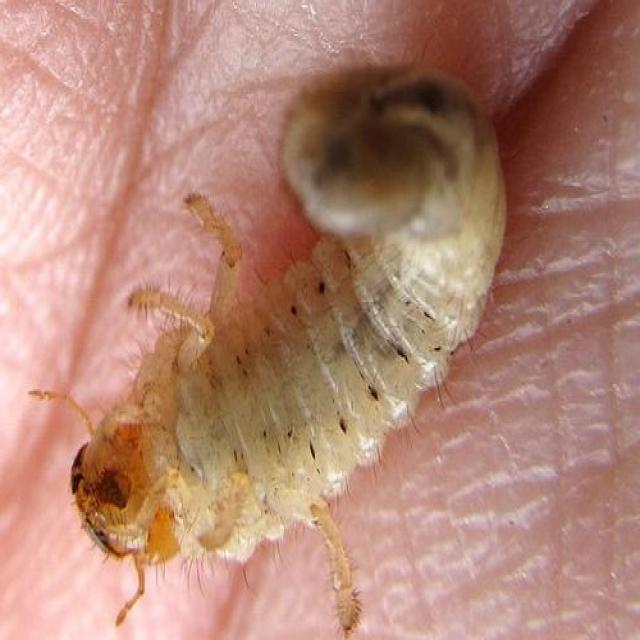grub: (55, 85, 510, 590)
